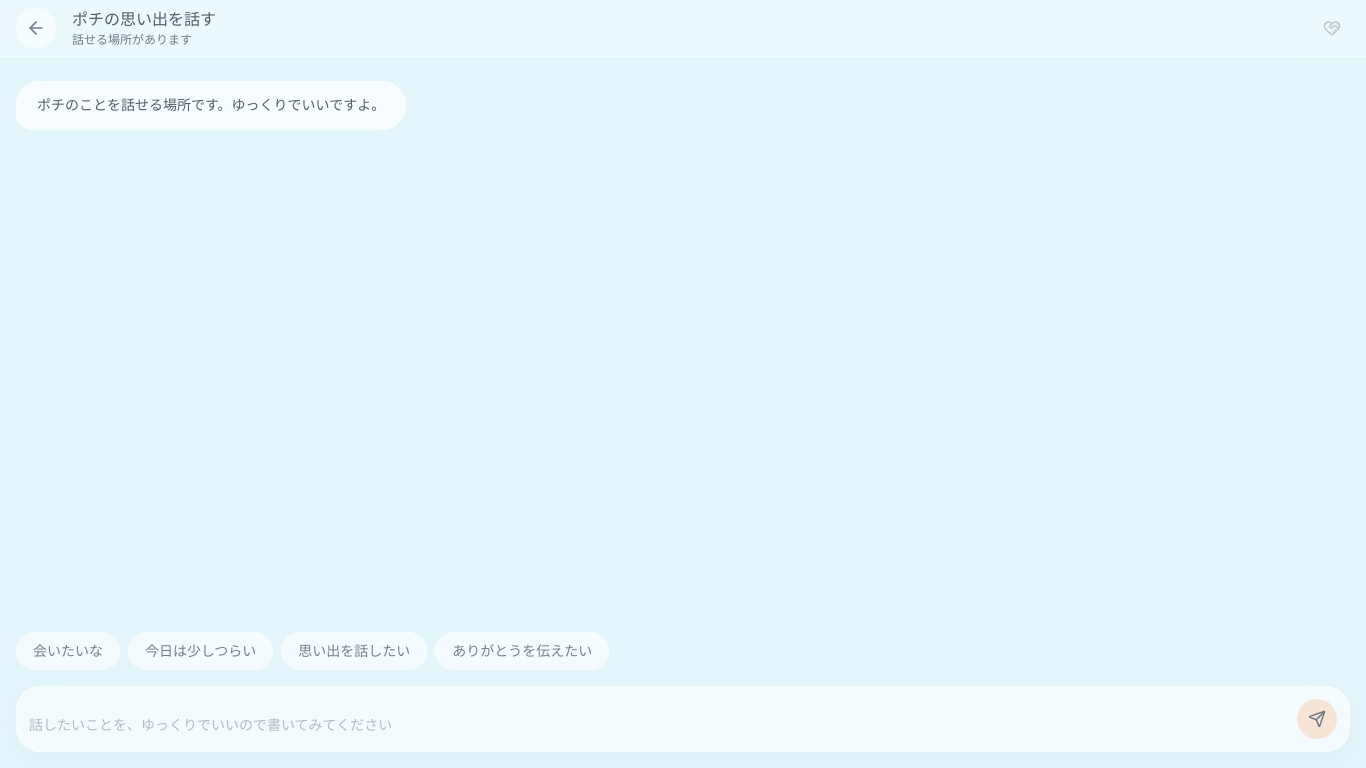
ChatScreen › メッセージ送信 → ローディング → AI返答が表示される
Type "ポチのことが恋しいです" into the text box with placeholder "話したいことを、ゆっくりでいいので書いてみてください" at (657, 727), box [29,715,1285,739]
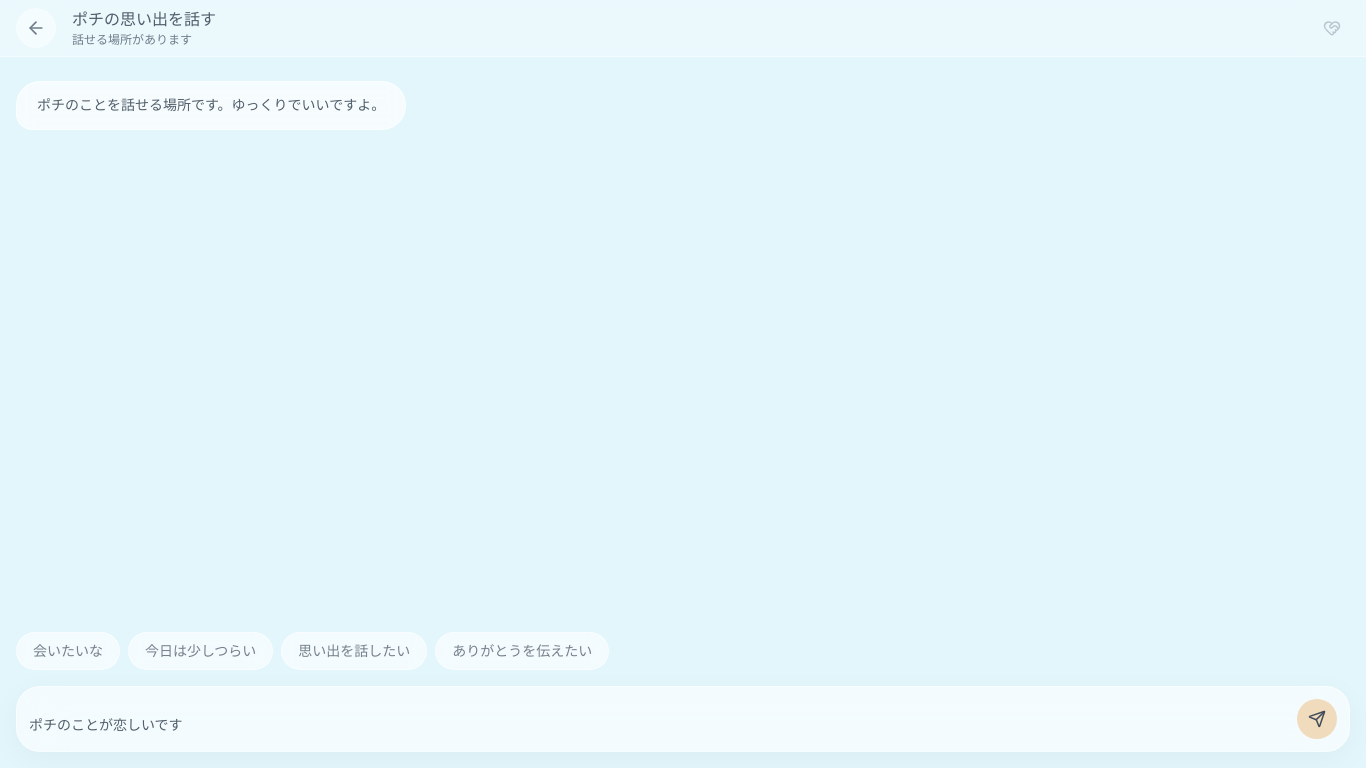
Press Enter
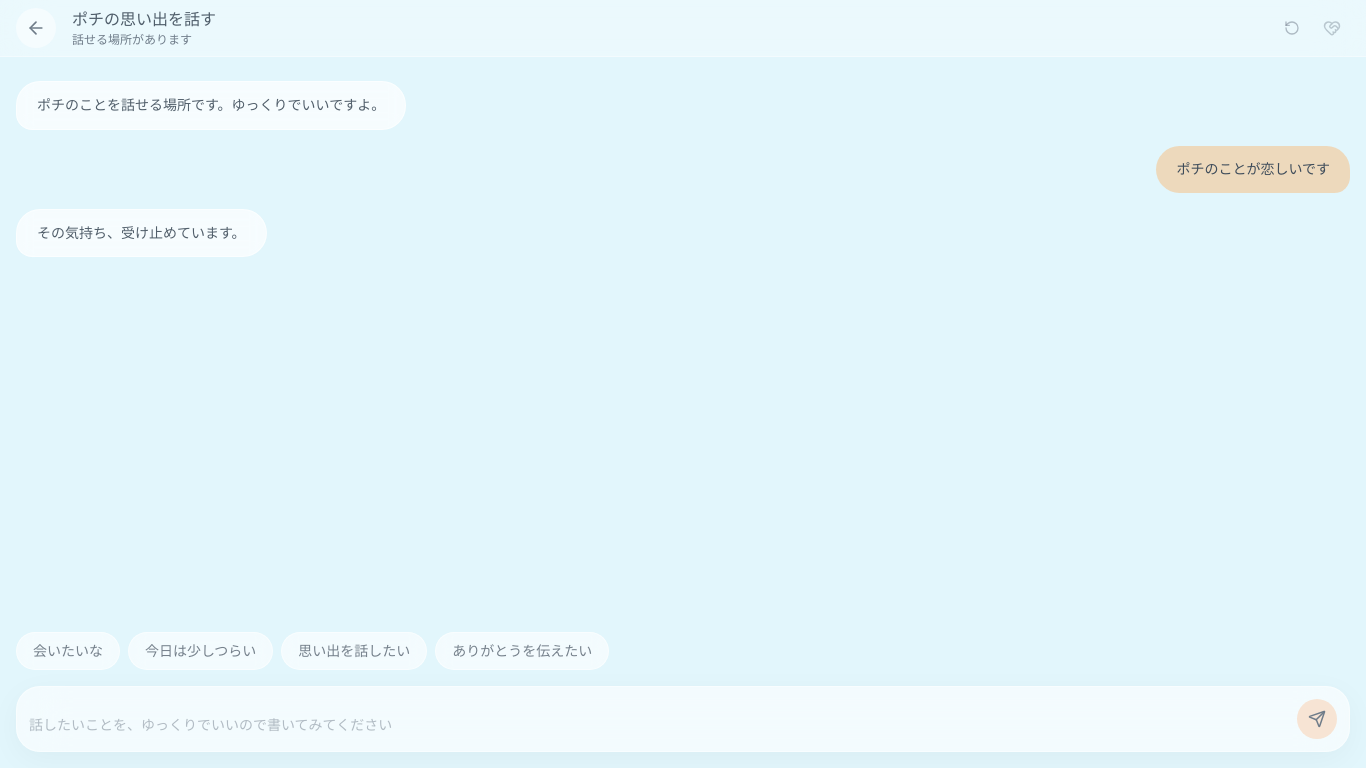
Now the text "ポチのことが恋しいです" is shown, box [1176,158,1330,181]
Now the text "その気持ち、受け止めています。" is shown, box [37,222,246,244]
